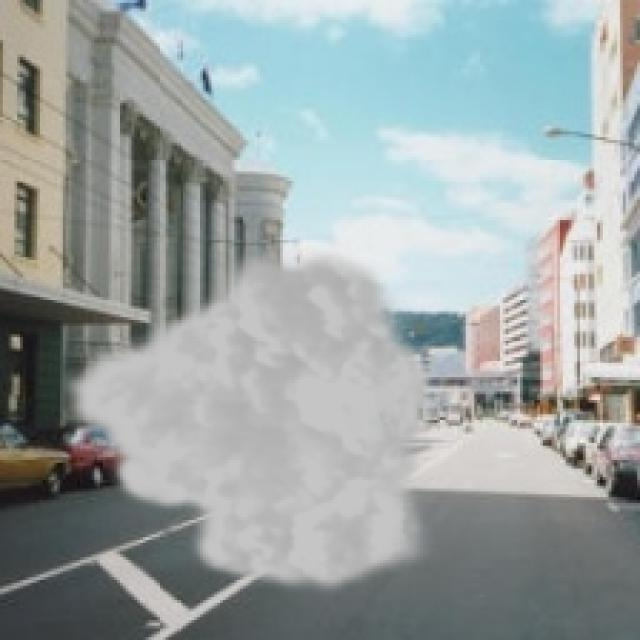Smoke: (57, 240, 440, 597)
